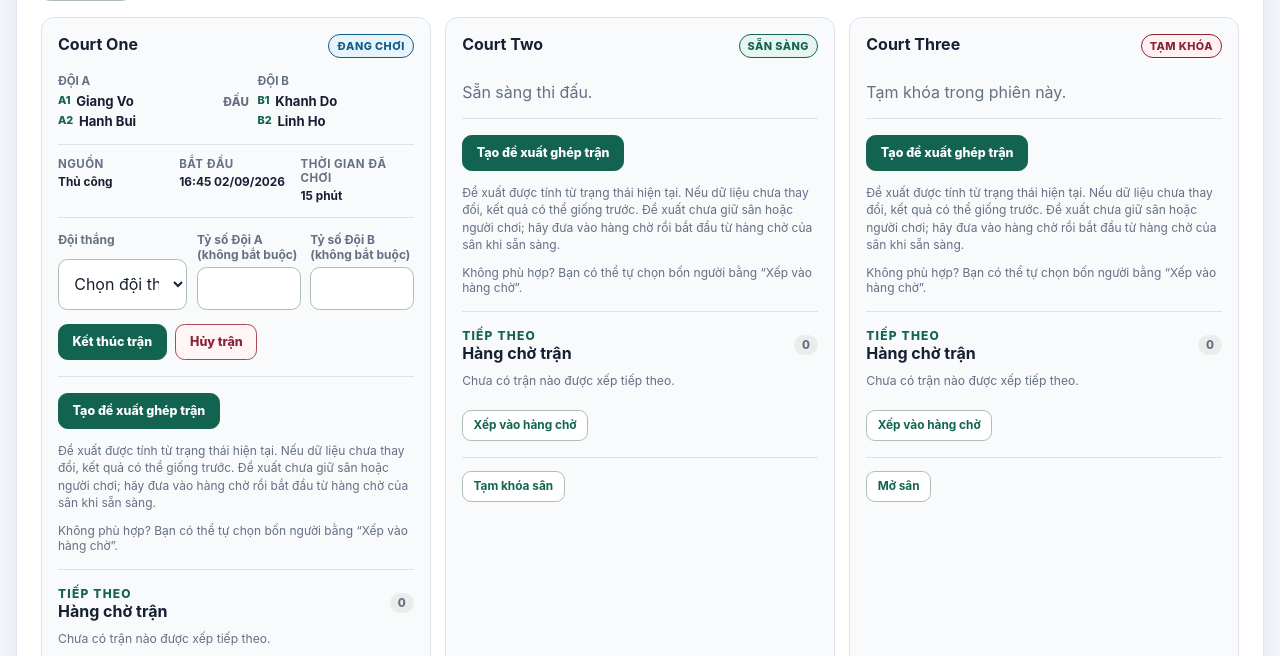
Scenario: Complete Match result form › rejects missing winner without a POST
The image size is (1280, 656).
(page scrolled)
Click the button "Kết thúc trận" at point(112, 342), box [58, 324, 167, 360]
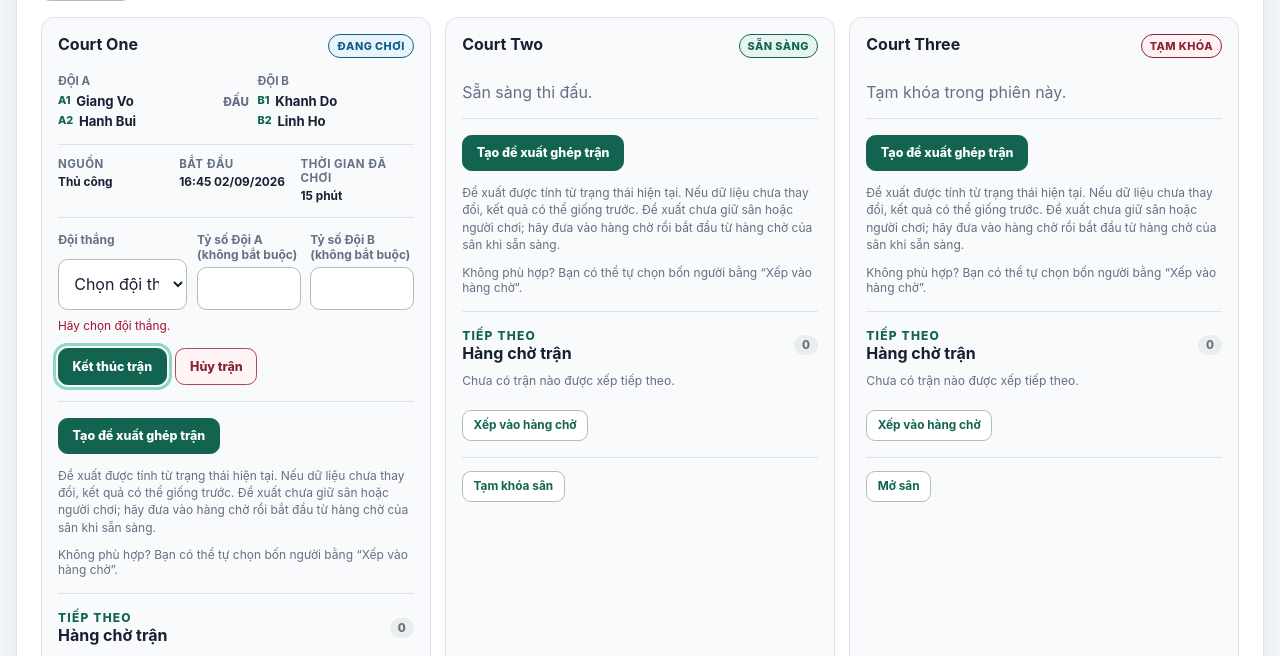
Expected: the message reads "Hãy chọn đội thắng.", [58, 319, 170, 333]
